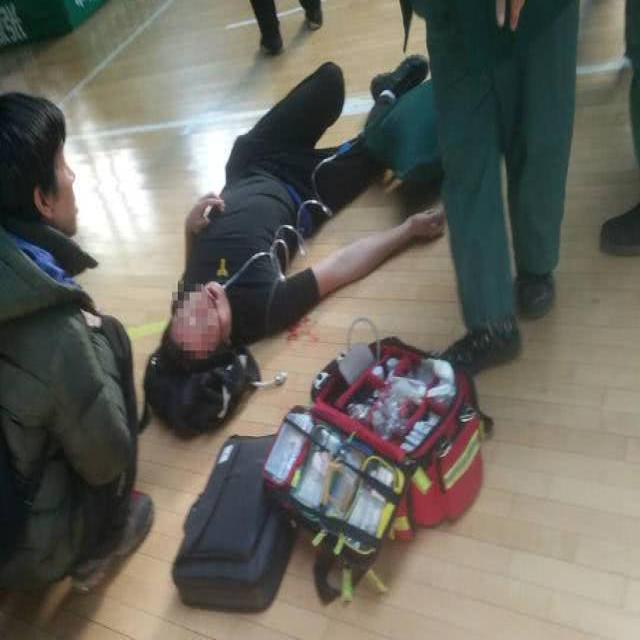fall: (148, 61, 414, 403)
